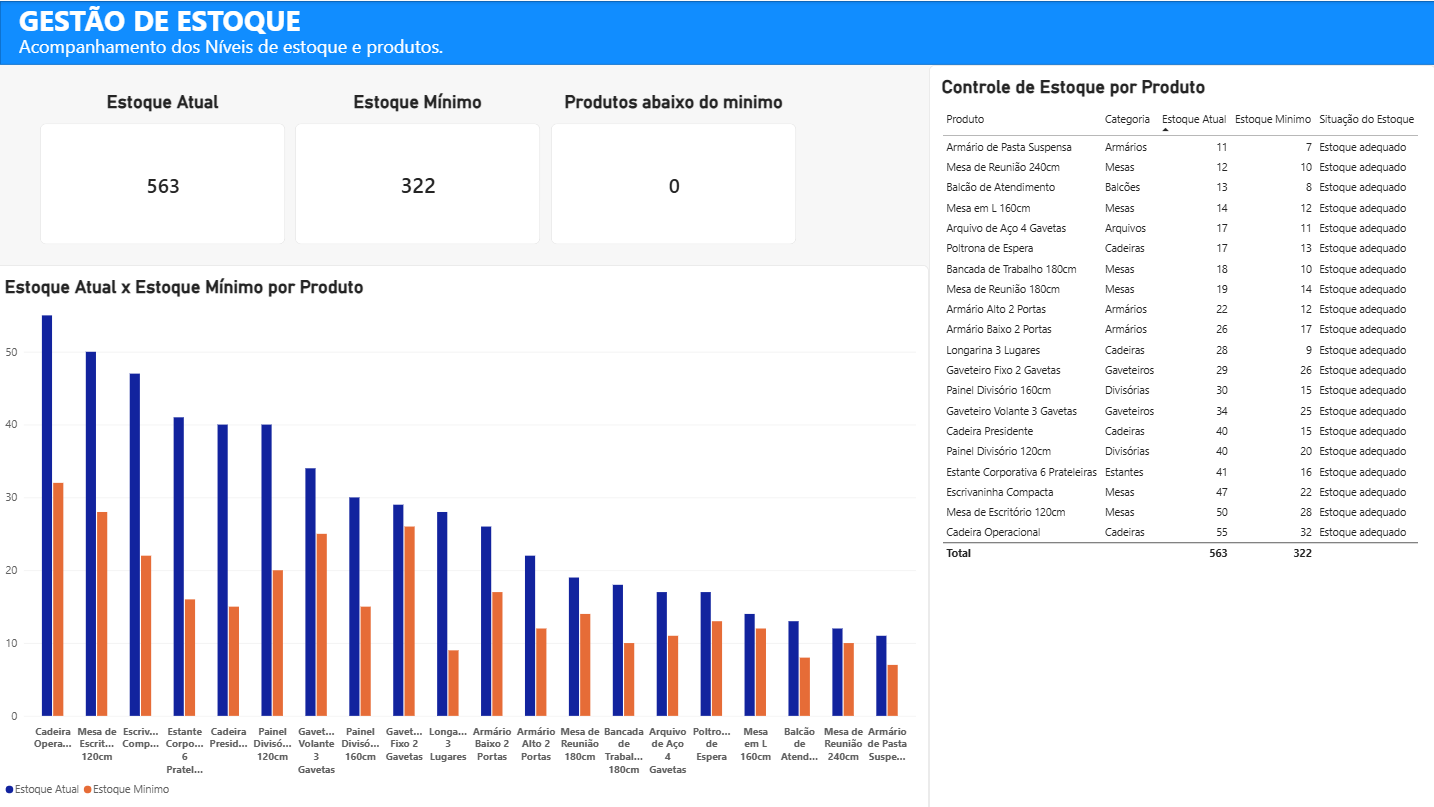

The dashboard page shown, as its layout file describes it:
{"tool":"powerbi","page":{"name":"Estoque","canvas":[1920,1080],"ordinal":1},"visuals":[{"type":"shape","box":[10.6,0,1909.4,84.7],"z":0},{"type":"cardVisual","title":"Estoque Atual","fields":{"Data":["Sum(BI_Estoque.Estoque_Atual)"]},"box":[63.5,119.4,326.3,204.1],"z":0,"group":"g1"},{"type":"textbox","box":[36.3,42.3,749.9,42.3],"z":1000},{"type":"cardVisual","title":"Estoque Mínimo","fields":{"Data":["Sum(BI_Estoque.Estoque_Minimo)"]},"box":[403,119.4,326.3,204.1],"z":1000,"group":"g1"},{"type":"textbox","box":[36.3,0,777.1,52.9],"z":2000},{"type":"cardVisual","title":"Produtos abaixo do minimo","fields":{"Data":["BI_Estoque.Produtos_Abaixo_Minimo"]},"box":[742.6,119.4,326.3,204.1],"z":2000,"group":"g1"},{"type":"clusteredColumnChart","title":"Estoque Atual x Estoque Mínimo por Produto","fields":{"Category":["BI_Estoque.Produto"],"Y":["Sum(BI_Estoque.Estoque_Atual)","Sum(BI_Estoque.Estoque_Minimo)"]},"box":[0,350.7,1245.7,728.7],"z":3000},{"type":"tableEx","title":"Controle de Estoque por Produto","fields":{"Values":["BI_Estoque.Produto","BI_Estoque.Categoria","Sum(BI_Estoque.Estoque_Atual)","Sum(BI_Estoque.Estoque_Minimo)","BI_Estoque.Situacao_Estoque"]},"box":[1245.7,84.7,674.3,994.8],"z":4000},{"type":"group","id":"g1","title":"Grupo 1","box":[63.5,119.4,1005.4,204.1],"z":5000}]}

Visuals, with their boxes in screenshot pixels (x1, y1, x2, y2), scaled from the page's 1920x1080 canvas onto the 1434x807 screenshot:
shape: x1=8, y1=0, x2=1433, y2=63
"Estoque Atual" cardVisual: x1=47, y1=89, x2=291, y2=242
textbox: x1=27, y1=32, x2=587, y2=63
"Estoque Mínimo" cardVisual: x1=301, y1=89, x2=545, y2=242
textbox: x1=27, y1=0, x2=608, y2=40
"Produtos abaixo do minimo" cardVisual: x1=555, y1=89, x2=798, y2=242
"Estoque Atual x Estoque Mínimo por Produto" clusteredColumnChart: x1=0, y1=262, x2=930, y2=806
"Controle de Estoque por Produto" tableEx: x1=930, y1=63, x2=1433, y2=806
"Grupo 1" group: x1=47, y1=89, x2=798, y2=242
